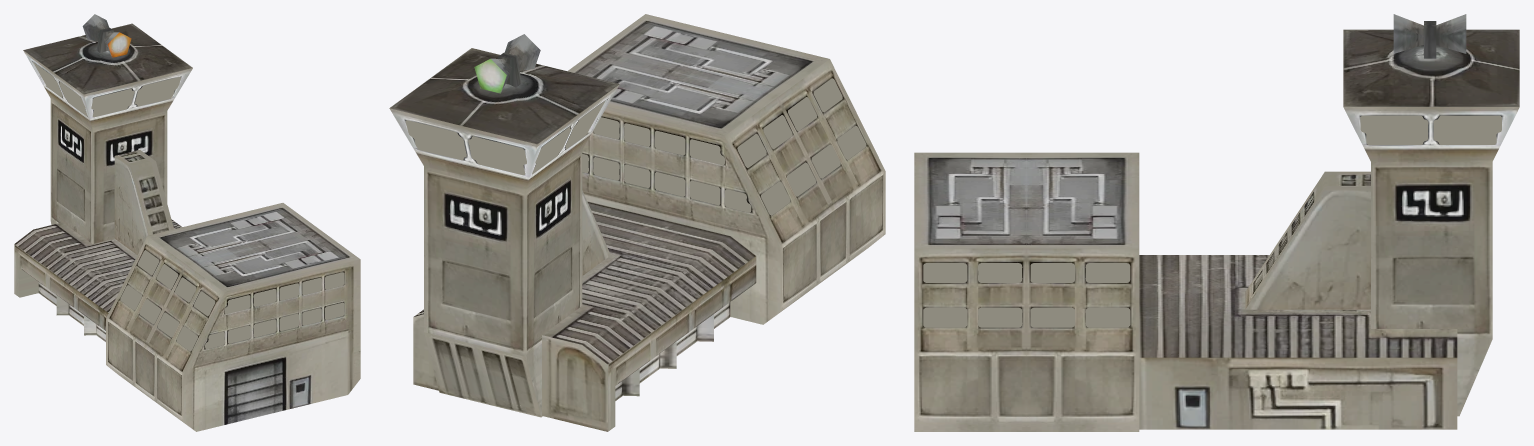
File: trafcon2_hdtex.glb
3 views of the same model, side by side, from view 1: azimuth 30°, elevation 25°; view 2: azimuth 150°, elevation 25°; view 3: azimuth 270°, elevation 25° (orthographic). The views are drawn at different scales.
Parts seen in each view (by area): view 1: Trafcon2, LitWin_Trafcon2, Spinny; view 2: Trafcon2, LitWin_Trafcon2, Spinny; view 3: Trafcon2, LitWin_Trafcon2, Spinny.
Boxes of the visible parts, left/top/right/bottom form: Trafcon2: left=14, top=23, right=360, bottom=431; LitWin_Trafcon2: left=33, top=62, right=344, bottom=351; Spinny: left=82, top=14, right=131, bottom=57; Trafcon2: left=389, top=14, right=885, bottom=431; LitWin_Trafcon2: left=405, top=78, right=866, bottom=215; Spinny: left=474, top=34, right=540, bottom=93; Trafcon2: left=914, top=29, right=1519, bottom=431; LitWin_Trafcon2: left=923, top=115, right=1501, bottom=327; Spinny: left=1393, top=14, right=1466, bottom=58.
Bounding box in the file's own units: 22.4 × 31.16 × 45.71.
Materials: 1 (1 with a texture image).
